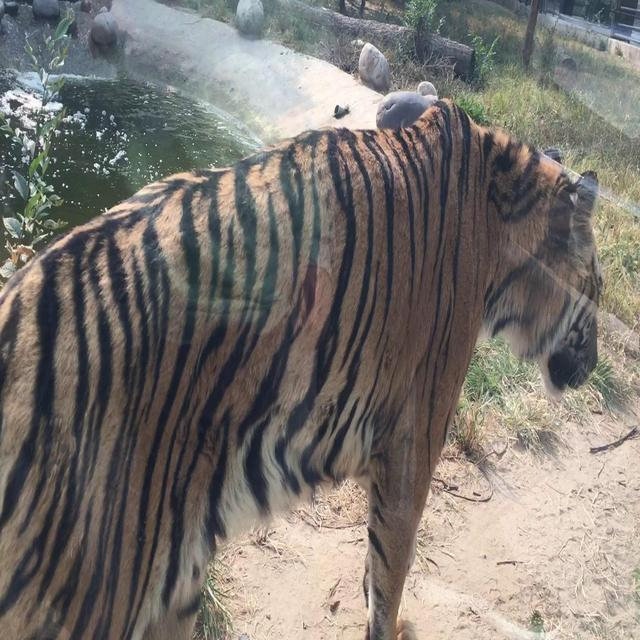tiger: (0, 92, 604, 639), (375, 79, 439, 131), (356, 40, 391, 93)
